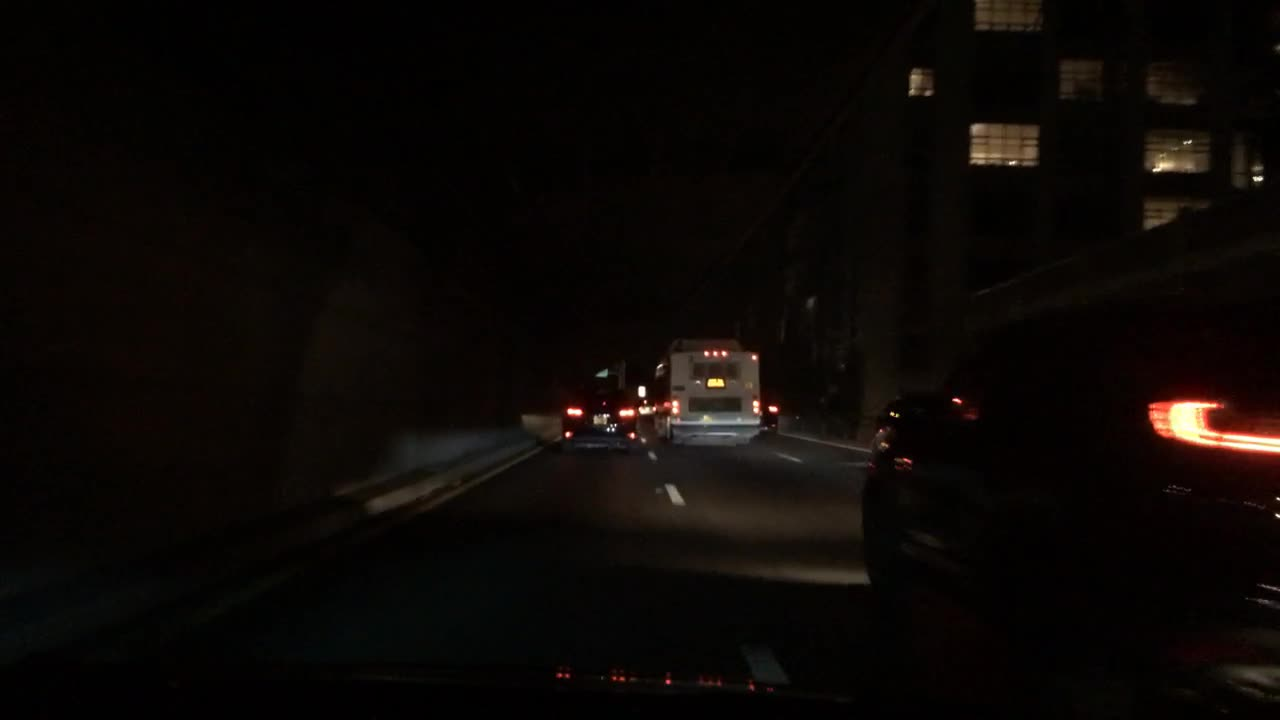bus: (642, 338, 765, 446)
car: (865, 312, 1278, 662), (558, 378, 648, 449), (755, 394, 789, 431)
